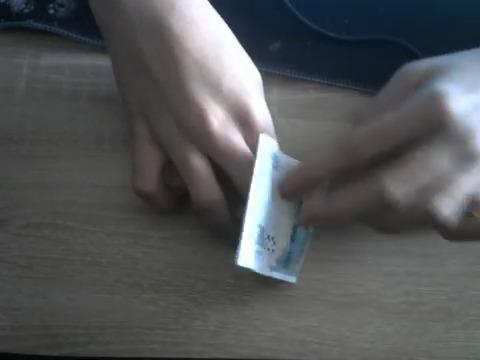20leva: (235, 134, 313, 285)
